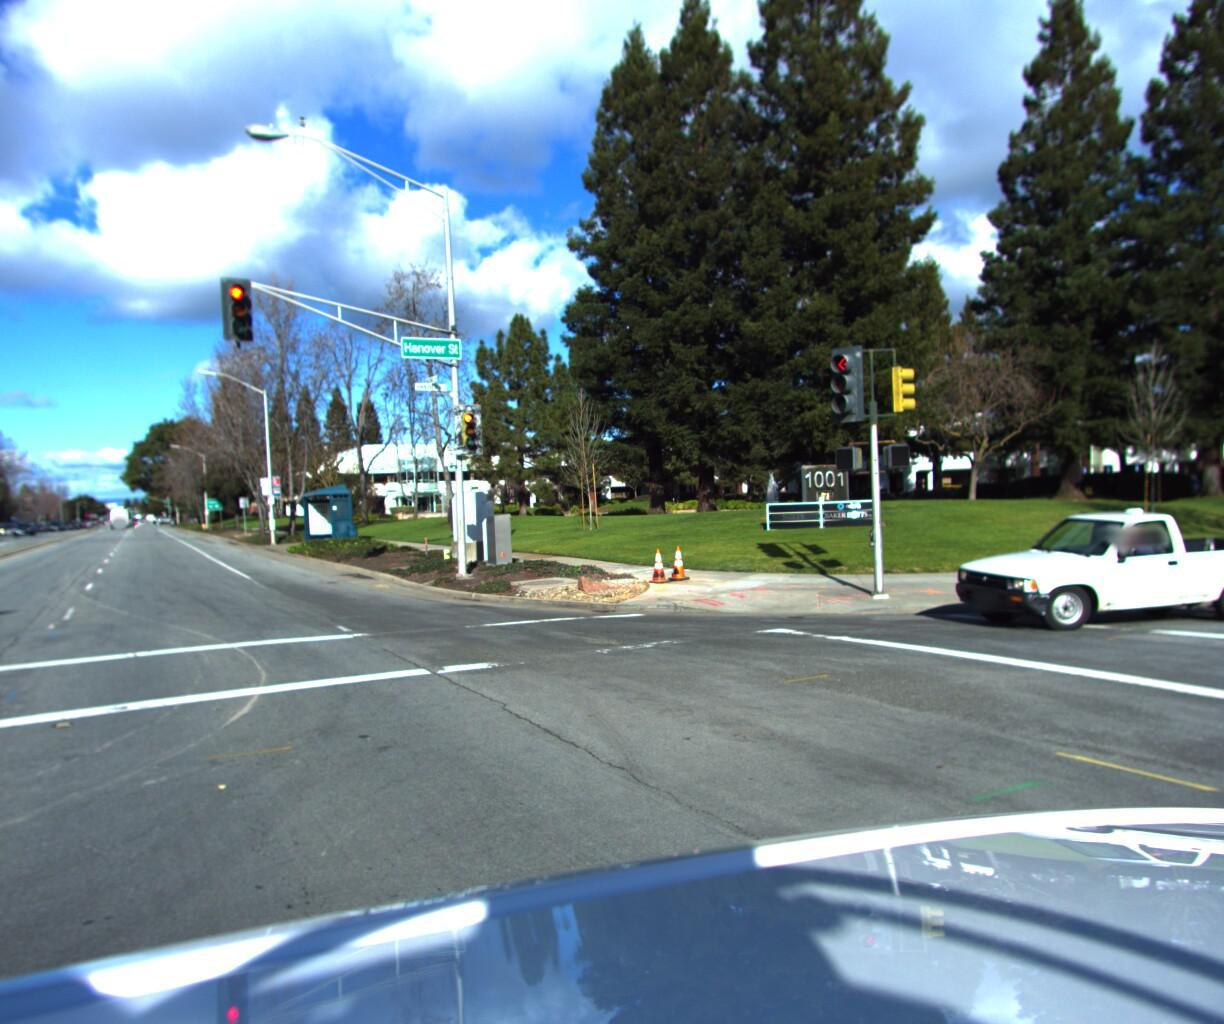car: (951, 488, 1224, 629)
